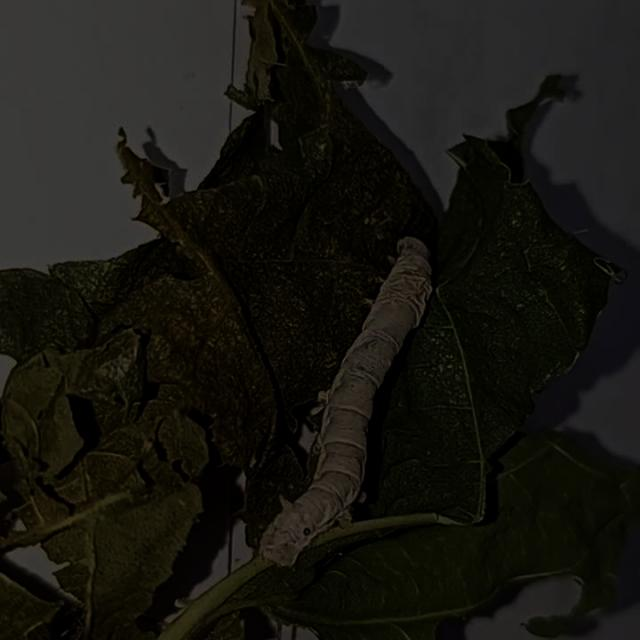Healthy: (242, 214, 484, 580)
